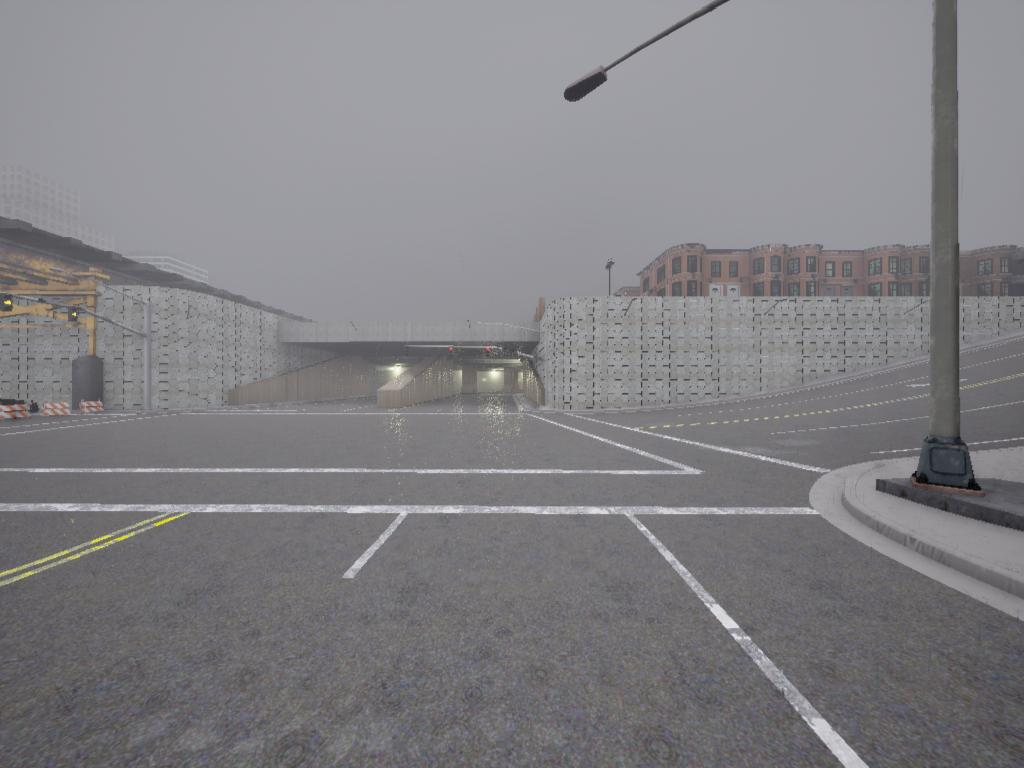traffic_light: (1, 290, 16, 318), (66, 306, 80, 326), (486, 346, 492, 360), (406, 346, 411, 359), (449, 348, 454, 360)
